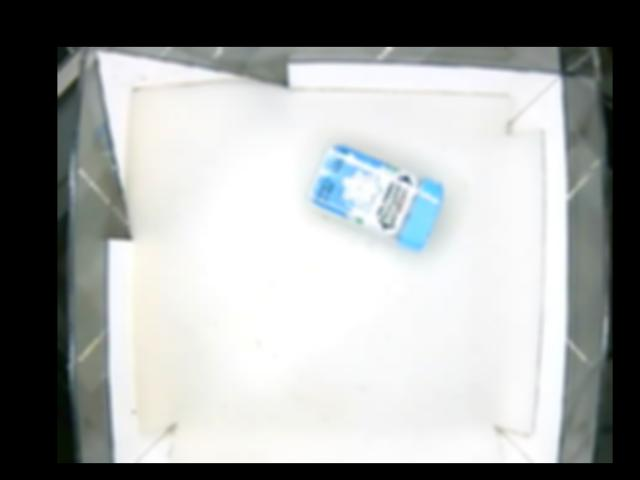Bottle: (307, 143, 444, 251)
